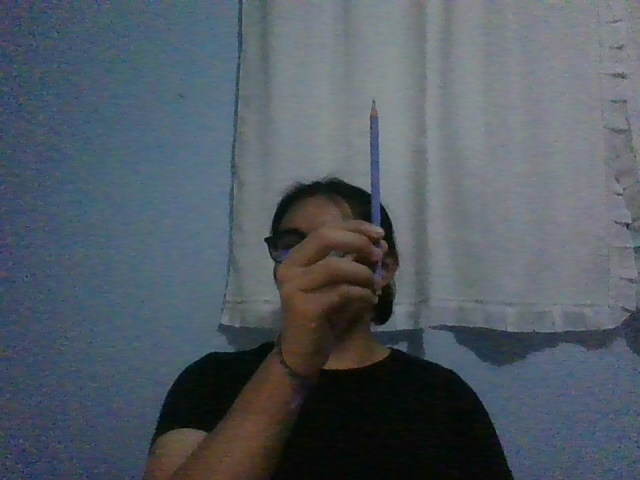lapiz: (370, 97, 384, 295)
